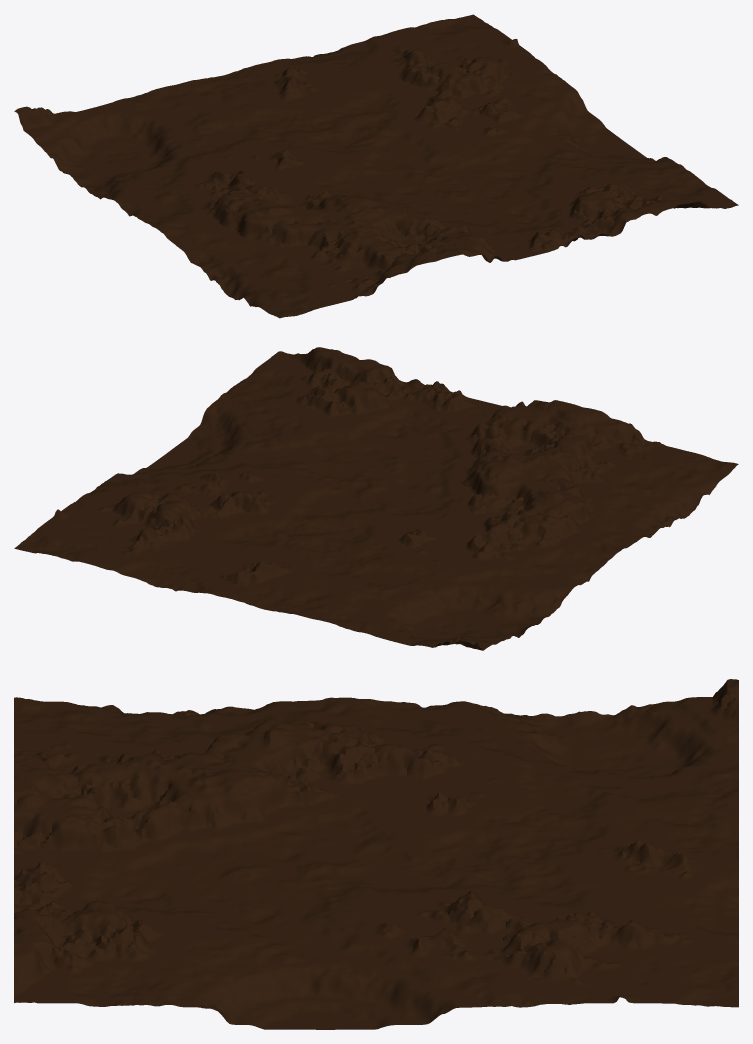
Rendered from 2x2.3_Squares_200m_002.glb.
The picture shows the model from 3 angles, top to bottom: view 1: azimuth 30°, elevation 25°; view 2: azimuth 150°, elevation 25°; view 3: azimuth 270°, elevation 25°; orthographic projection. The views are drawn at different scales.
Parts seen in each view (by area): view 1: Cube; view 2: Cube; view 3: Cube.
Part boxes in pixels (left/top/right/bottom): Cube: left=14, top=14, right=738, bottom=318; Cube: left=14, top=347, right=738, bottom=650; Cube: left=14, top=679, right=738, bottom=1029.
Size of the model in its own units: 500 by 40.19 by 500.
